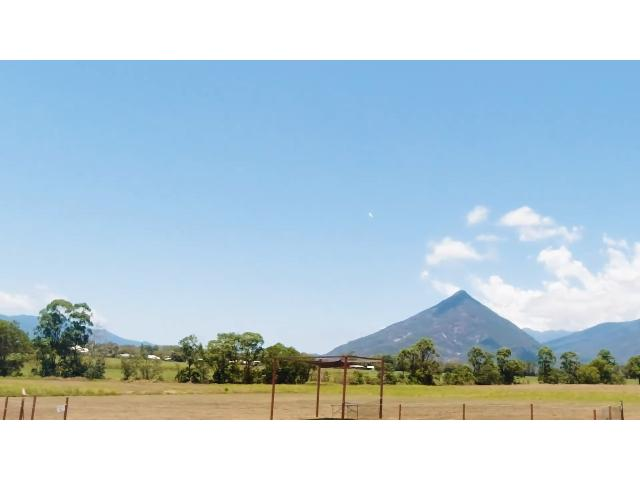Anti-Drone: (363, 206, 381, 218)
